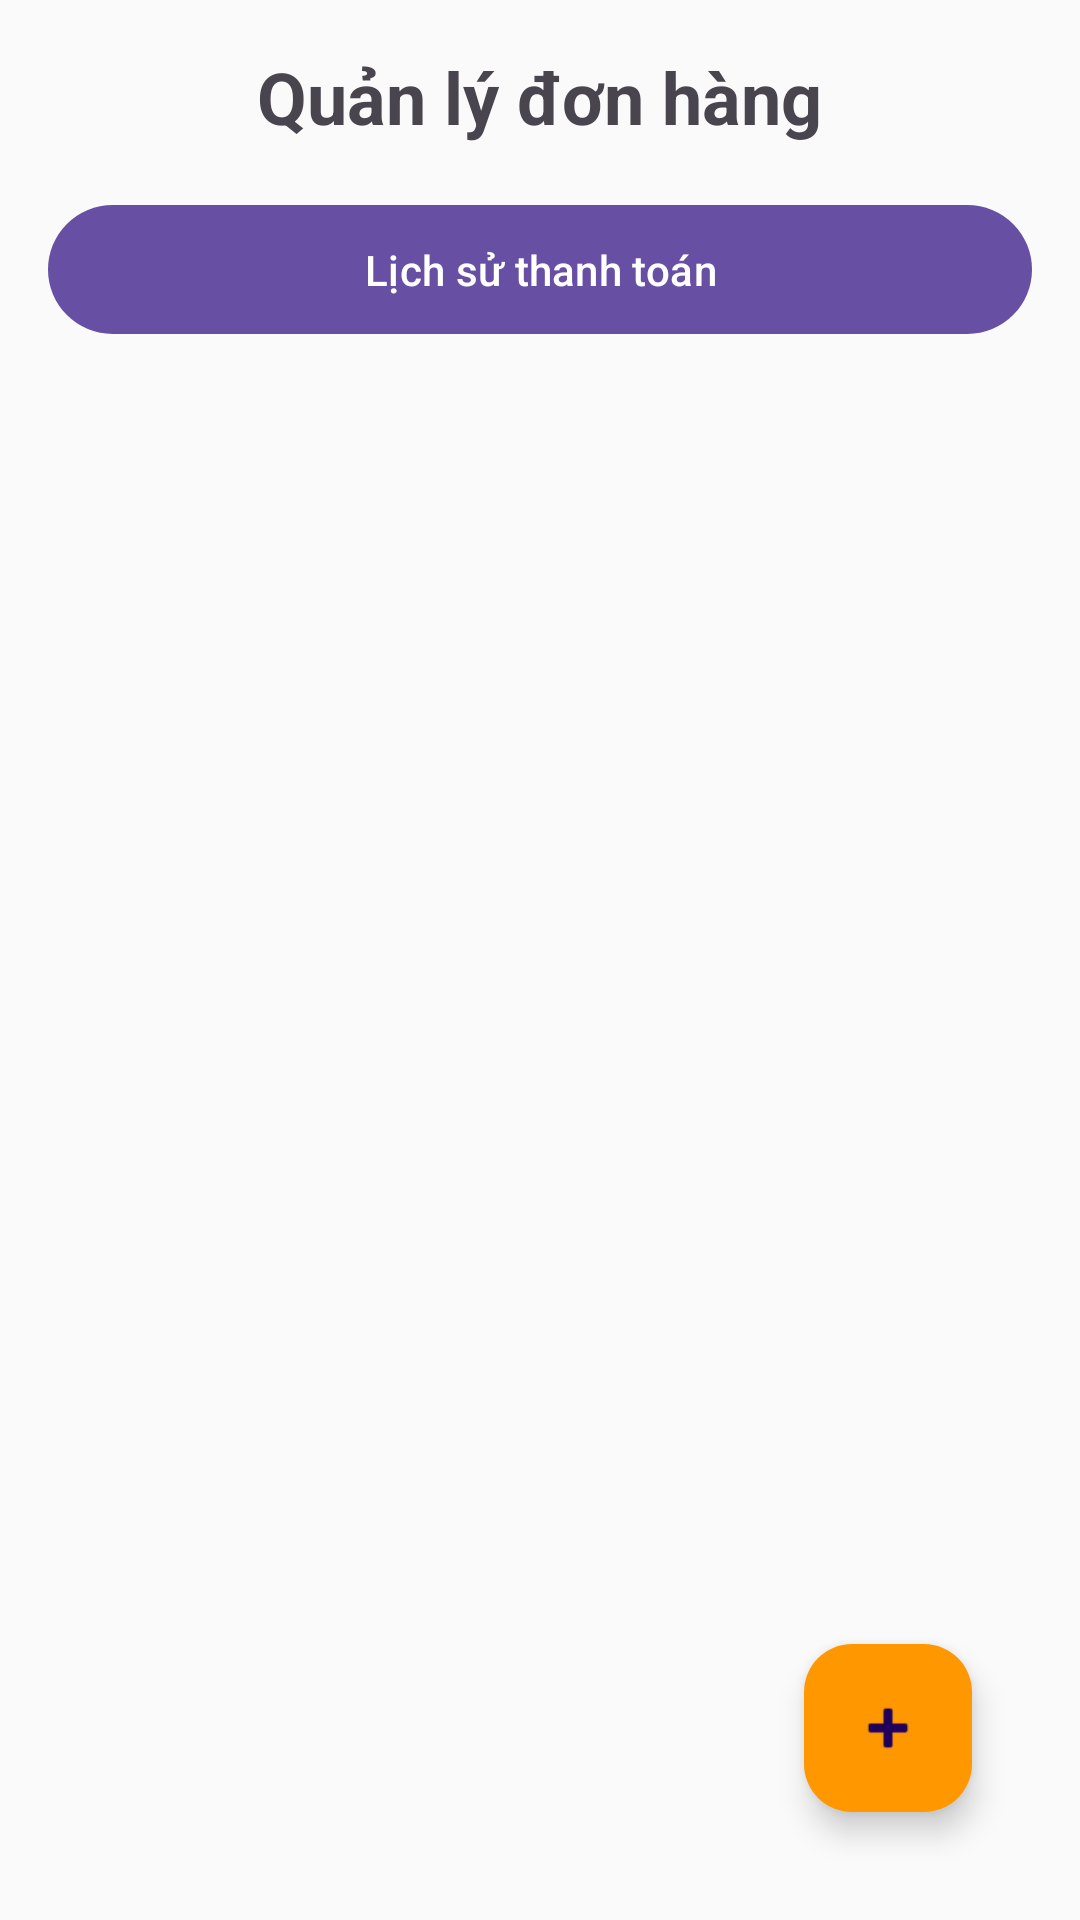

Screen size 1080*1920. Icon name, then its box in pixels as BBox(x1, y1, x2, y2):
Tạo đơn hàng mới: BBox(804, 1644, 972, 1812)
